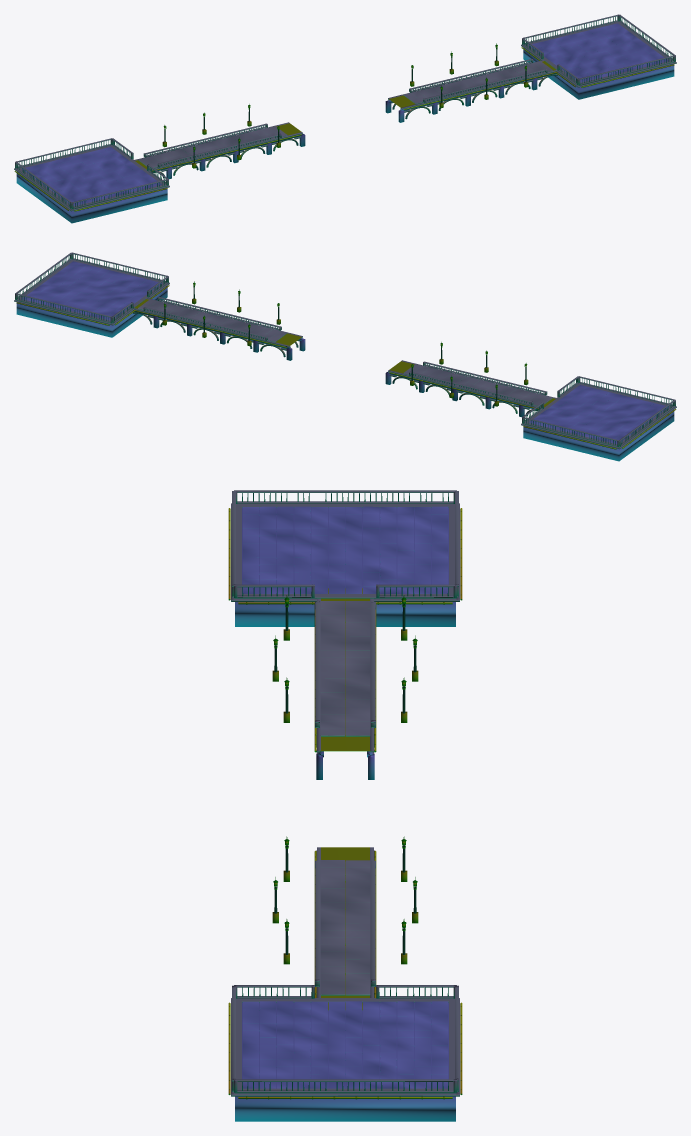
Rendered from ansedra_walks_we.glb.
The picture shows the model from 3 angles, top to bottom: view 1: azimuth 30°, elevation 25°; view 2: azimuth 150°, elevation 25°; view 3: azimuth 270°, elevation 25°; orthographic projection. The views are drawn at different scales.
Parts seen in each view (by area): view 1: ansedra_walks_we; view 2: ansedra_walks_we; view 3: ansedra_walks_we.
Part boxes in pixels (<box>): ansedra_walks_we: <box>14,14,676,223</box>; ansedra_walks_we: <box>14,252,676,461</box>; ansedra_walks_we: <box>228,490,462,1121</box>.
Size of what is drawn, in the model's own units: 101 by 5.66 by 16.79.
